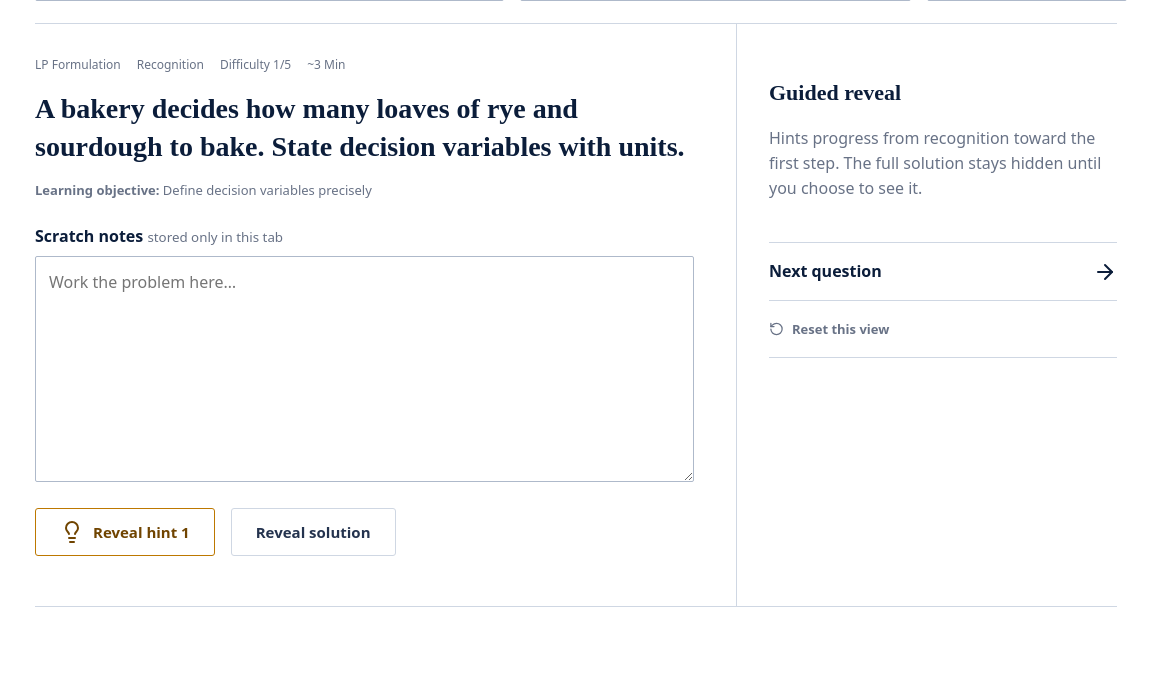
Test: CO 250 Field Guide › reveals hints progressively in practice
(page scrolled)
Check: the text "What quantities can the bakery choose?" is not shown
Click the button "Reveal hint 1" at (125,532), box [35,508,215,556]
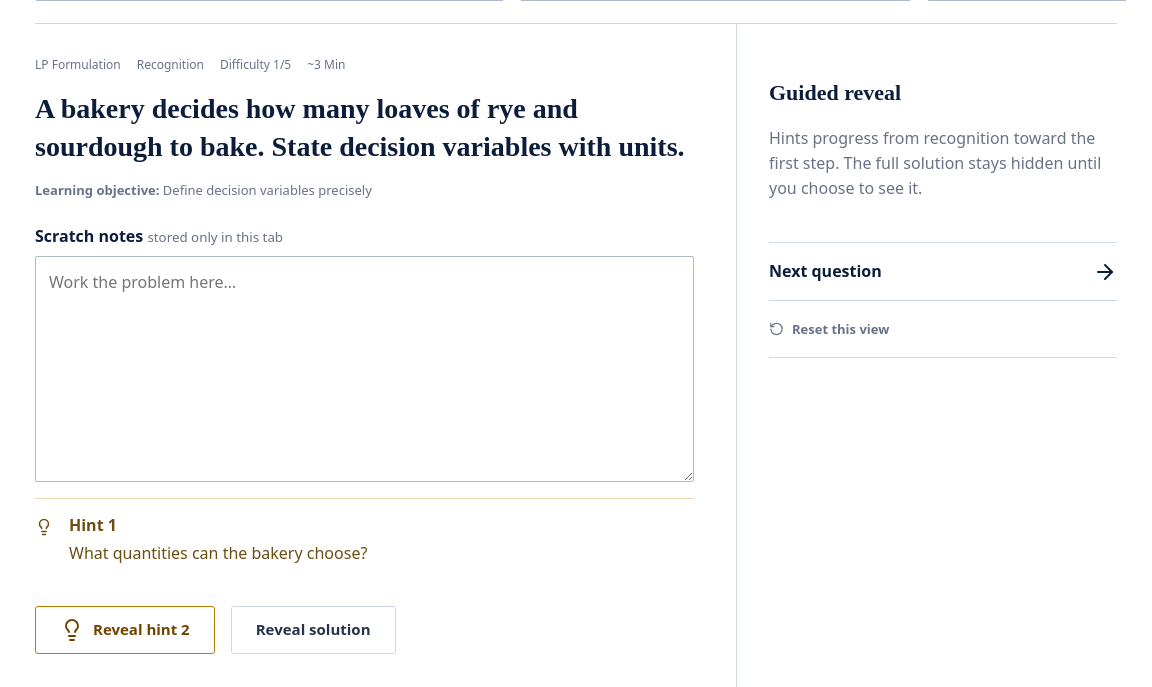
Check: the text "What quantities can the bakery choose?" is shown, box [69,542,367,564]
